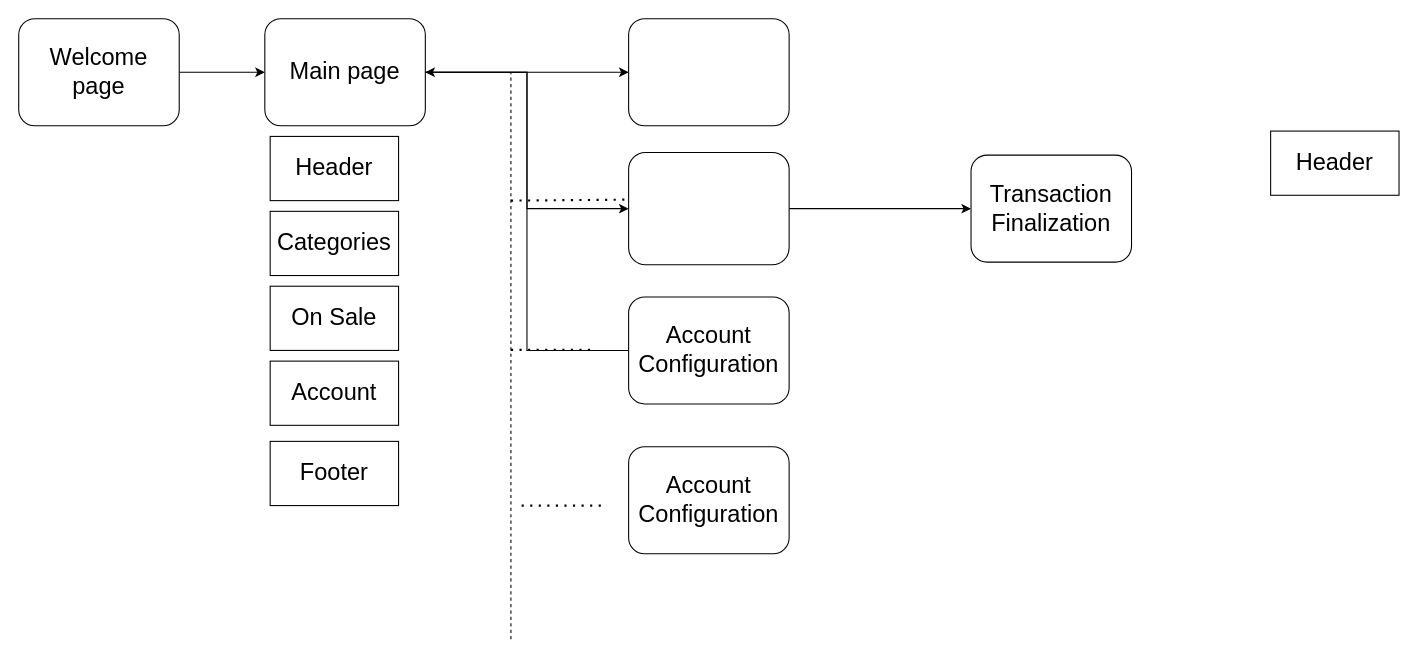
The diagram is 1418 pixels wide and 659 high, and some of its shapes have lost their labels. The box of each missing label's shape, as (x1, y1, x2, y2) in pixels:
Product page: (628, 18, 789, 126)
Shopping Cart: (628, 151, 789, 265)
